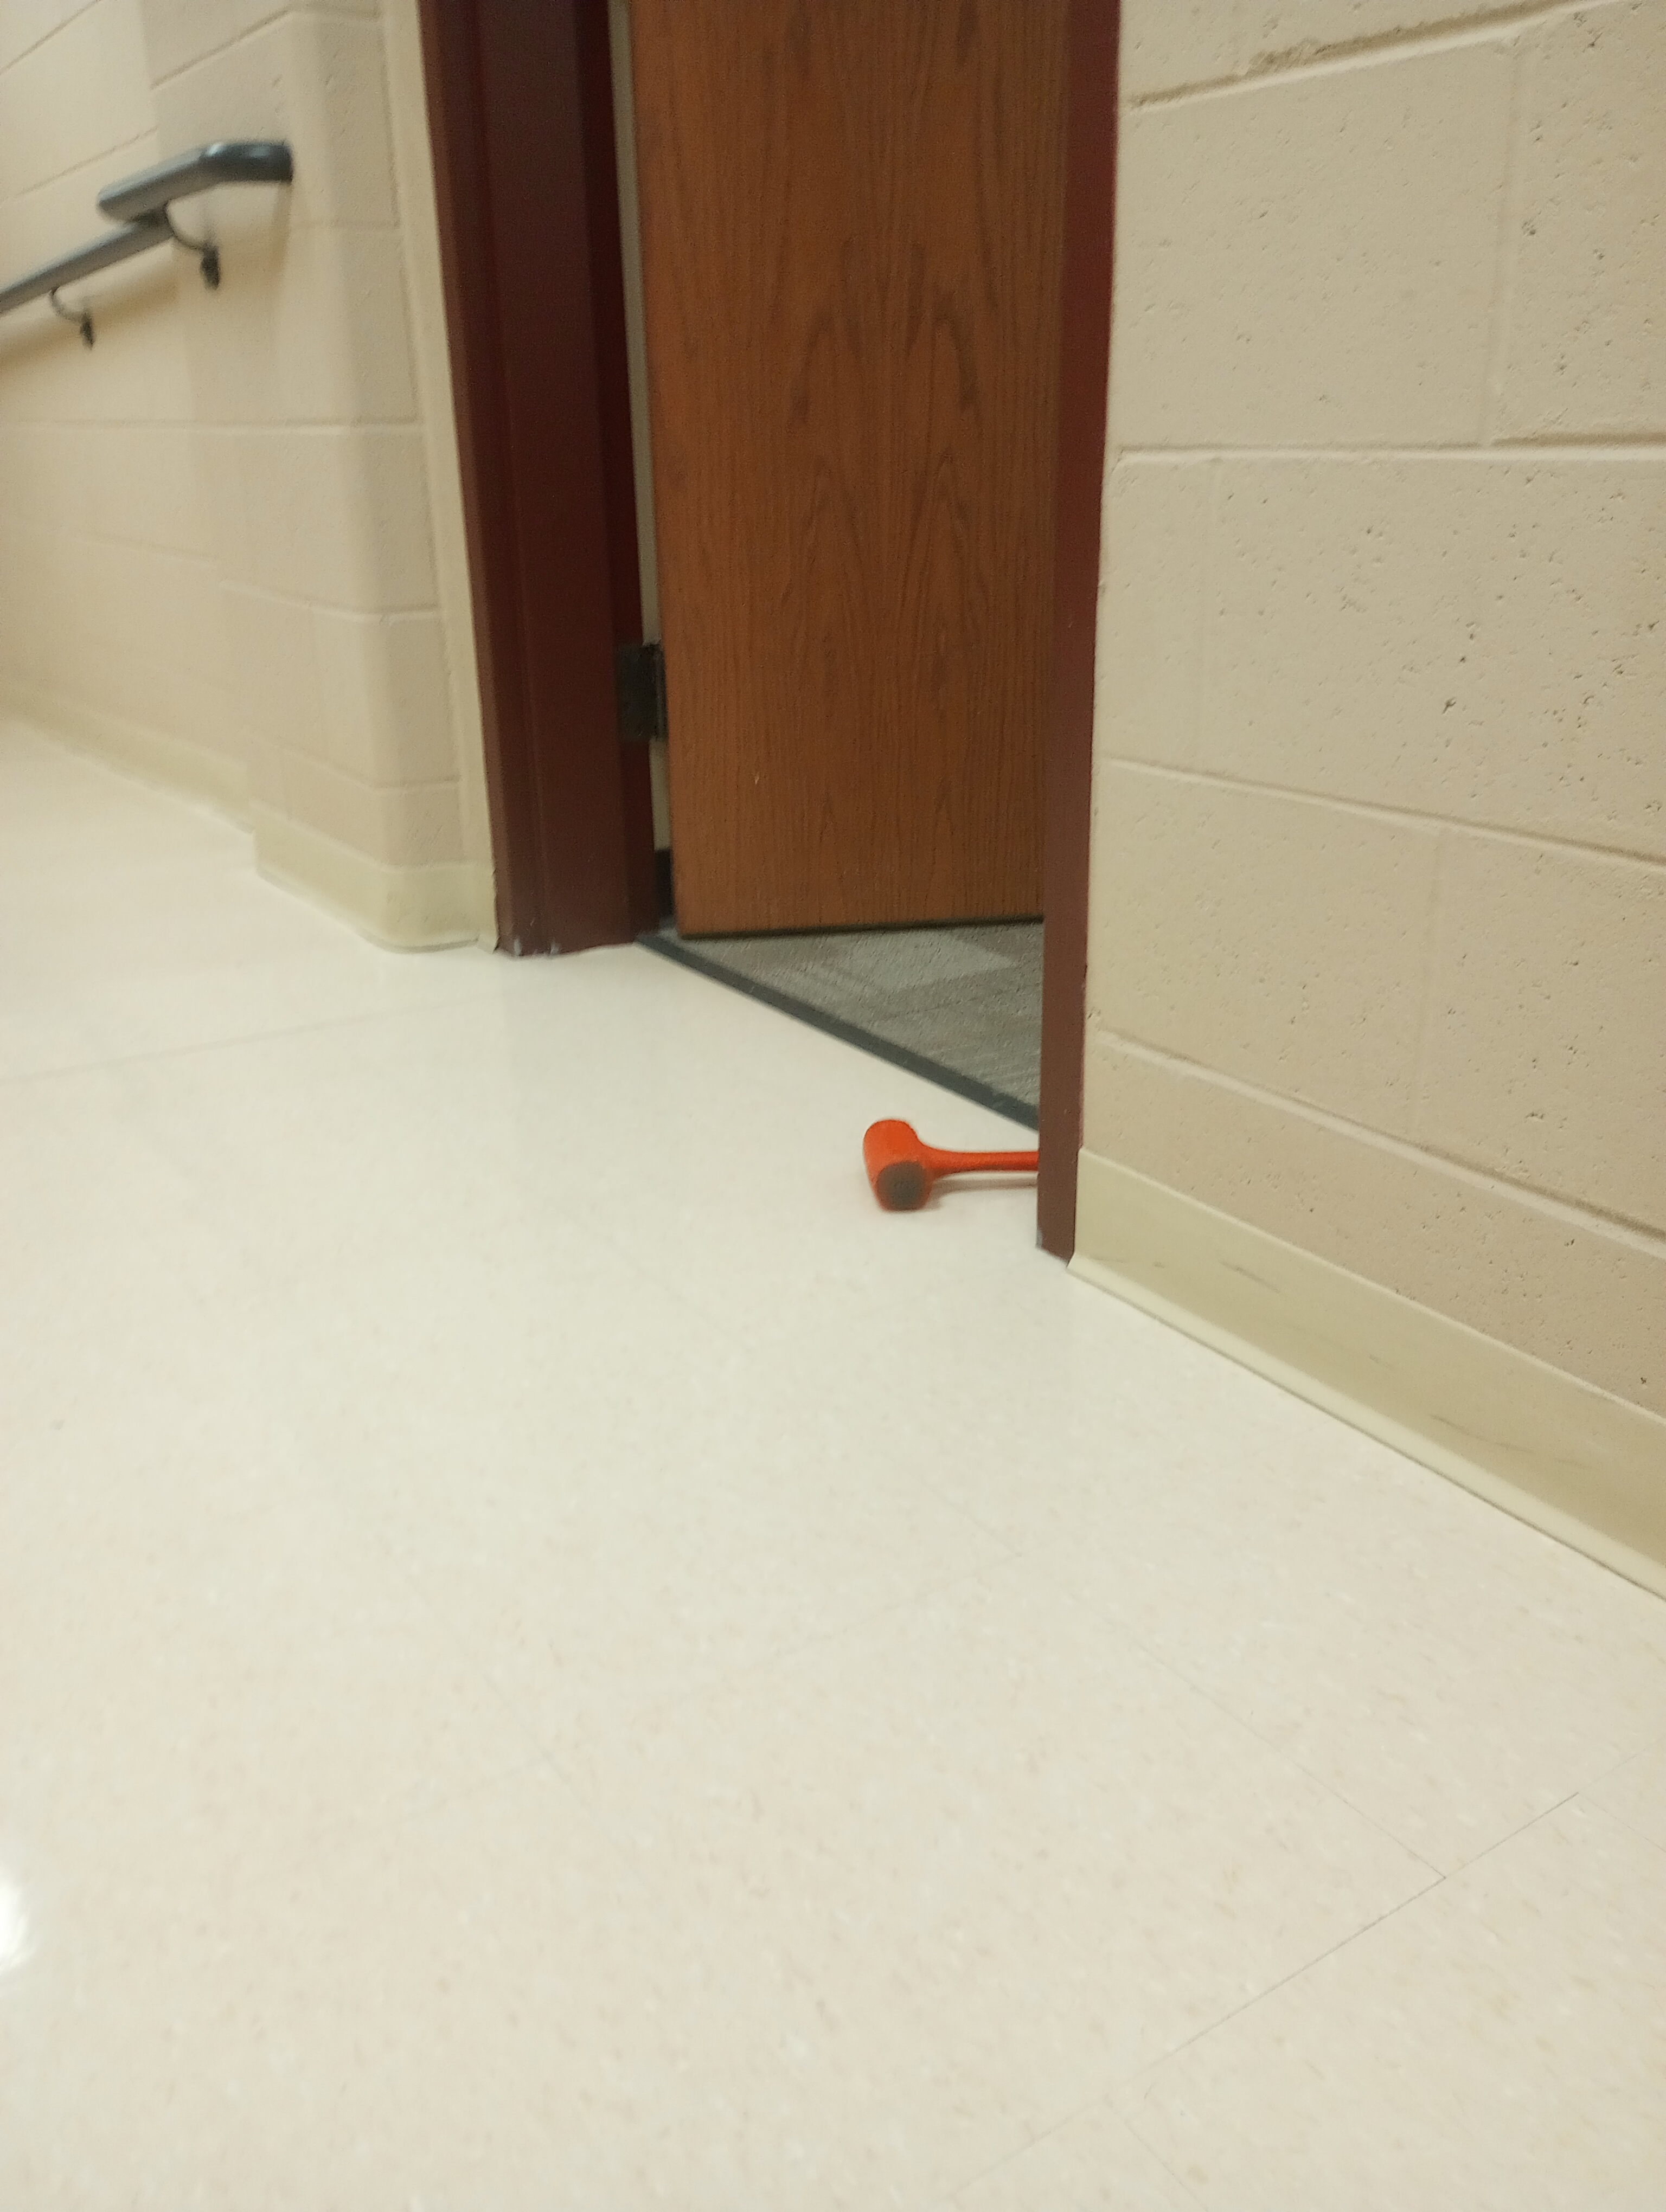bottle: (858, 1109, 1048, 1222)
